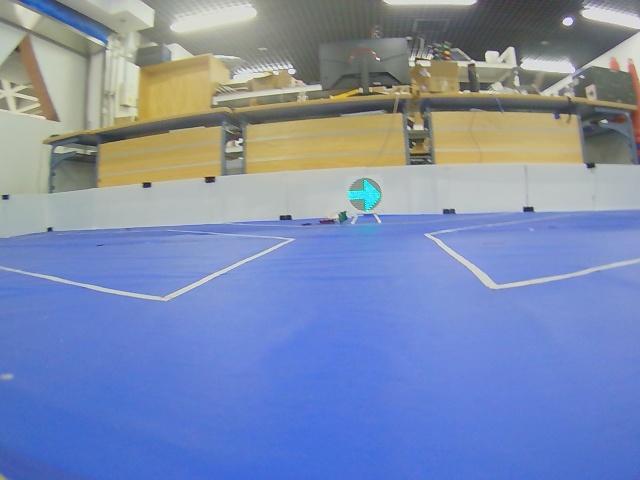right_green: (348, 178, 382, 212)
